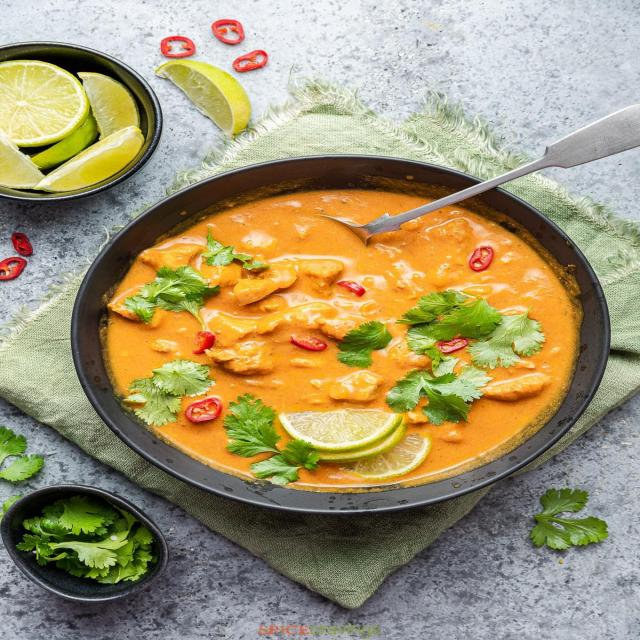chicken: (126, 198, 582, 491)
